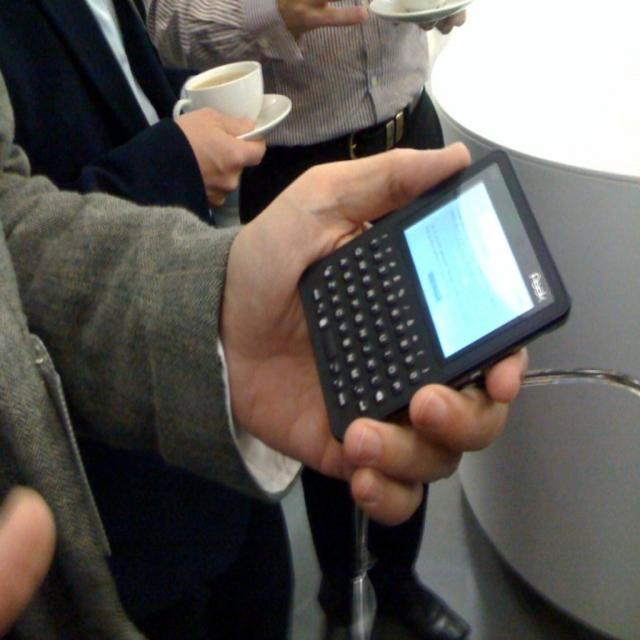Coffee: (196, 70, 252, 90)
